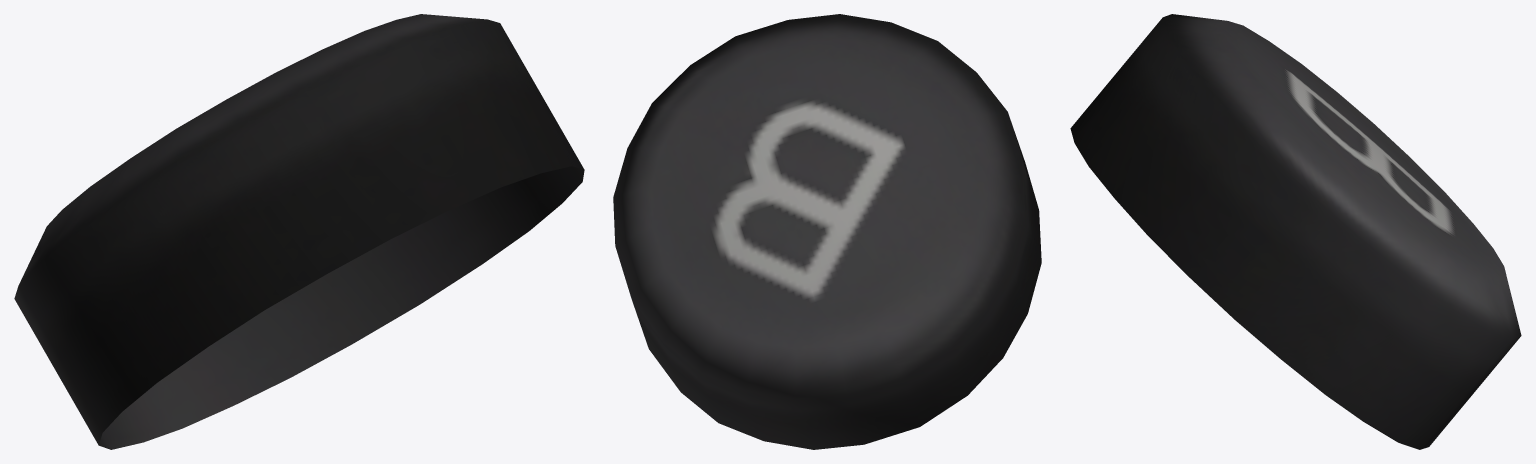
File: R_upperButton.obj
3 renders of one model, left to right at view 1: azimuth 30°, elevation 25°; view 2: azimuth 150°, elevation 25°; view 3: azimuth 270°, elevation 25°, orthographic. The views are drawn at different scales.
Visible parts, largest first — view 1: R_upperButton; view 2: R_upperButton; view 3: R_upperButton.
Boxes of the visible parts, left/top/right/bottom form: R_upperButton: left=14, top=14, right=584, bottom=449; R_upperButton: left=613, top=14, right=1041, bottom=449; R_upperButton: left=1070, top=14, right=1521, bottom=449.
Size of the model in its own units: 0.0108 by 0.00941 by 0.00971.
Materials: 1 (1 with a texture image).
